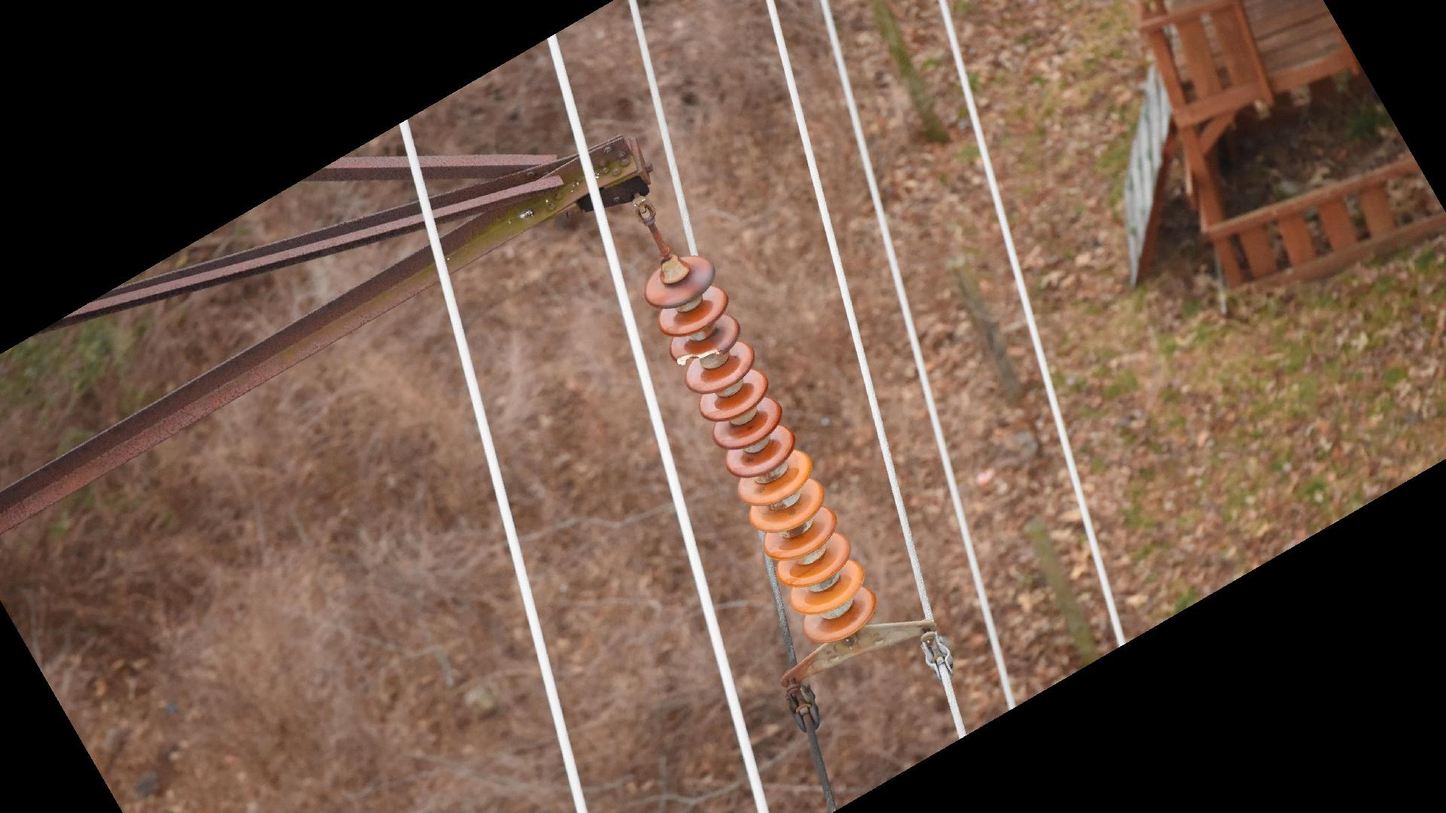insulator: (640, 253, 880, 648)
insulator_breakage: (673, 346, 724, 368)
